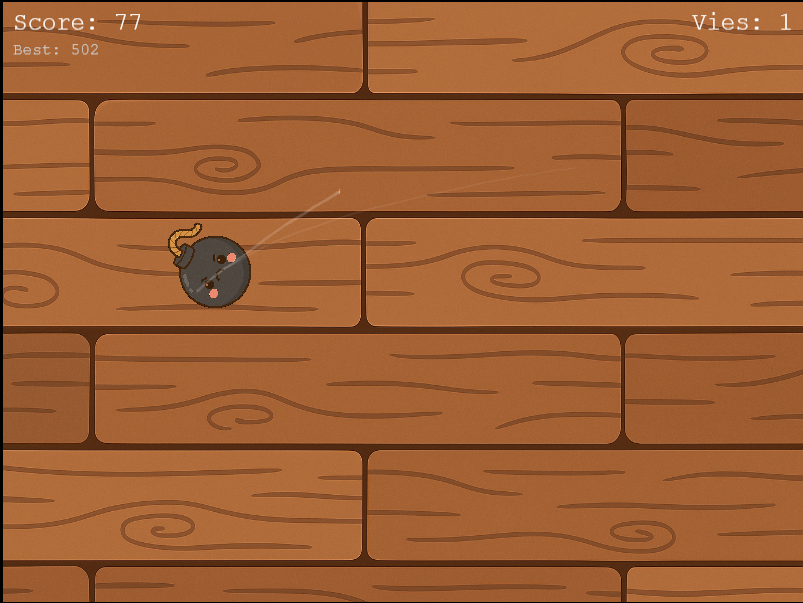bomb: (162, 219, 259, 316)
